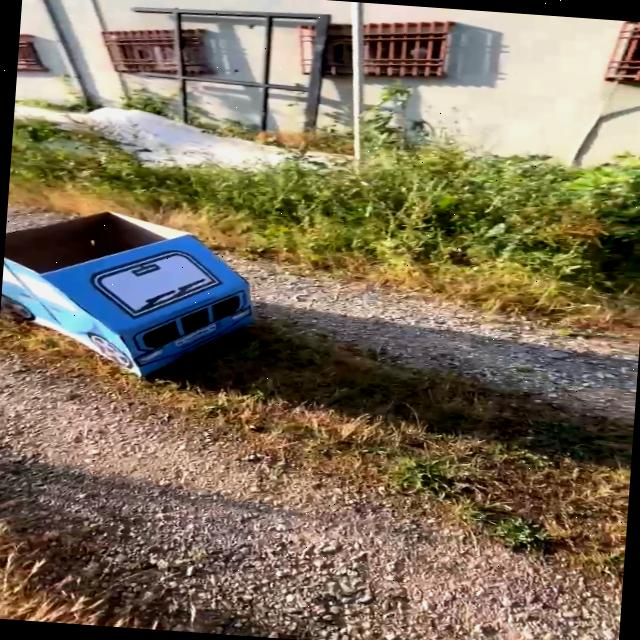blue_car: (0, 174, 314, 396)
